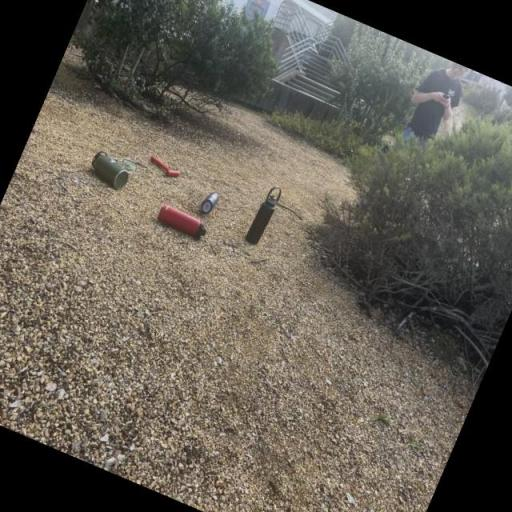bottle: (241, 182, 286, 248), (151, 198, 214, 245), (82, 145, 137, 197), (197, 187, 221, 219)
mallet: (140, 149, 186, 186)
